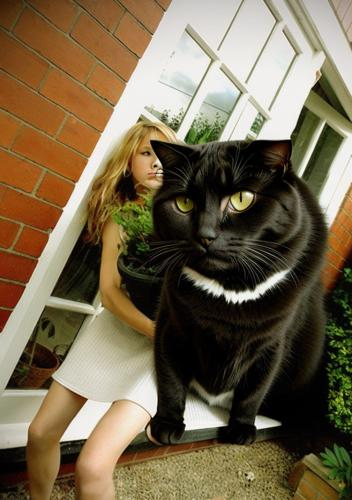cat: (150, 140, 329, 443)
person: (26, 125, 253, 500)
person/hand: (154, 311, 218, 349), (185, 308, 227, 327)
person/head: (130, 123, 176, 188)
pottedplant: (115, 170, 249, 351)
